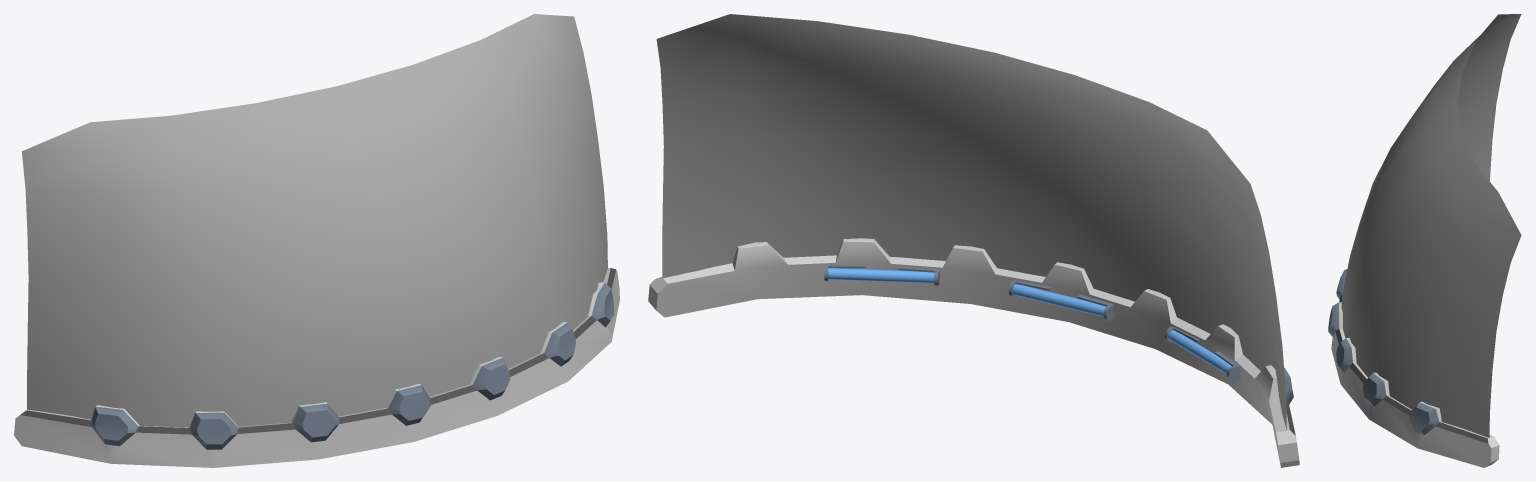
File: BarrierShield.fbx
3 renders of one model, left to right at view 1: azimuth 30°, elevation 25°; view 2: azimuth 150°, elevation 25°; view 3: azimuth 270°, elevation 25°, orthographic. The views are drawn at different scales.
Parts seen in each view (by area): view 1: shield, shieldBase; view 2: shield, shieldBase; view 3: shield, shieldBase.
Part boxes in pixels (<box>): shield: <box>22,14,607,427</box>; shieldBase: <box>14,267,619,467</box>; shield: <box>656,14,1286,430</box>; shieldBase: <box>648,238,1299,467</box>; shield: <box>1341,14,1521,437</box>; shieldBase: <box>1328,268,1499,467</box>.
Bounding box in the file's own units: 1.99 × 0.9443 × 0.6693.
